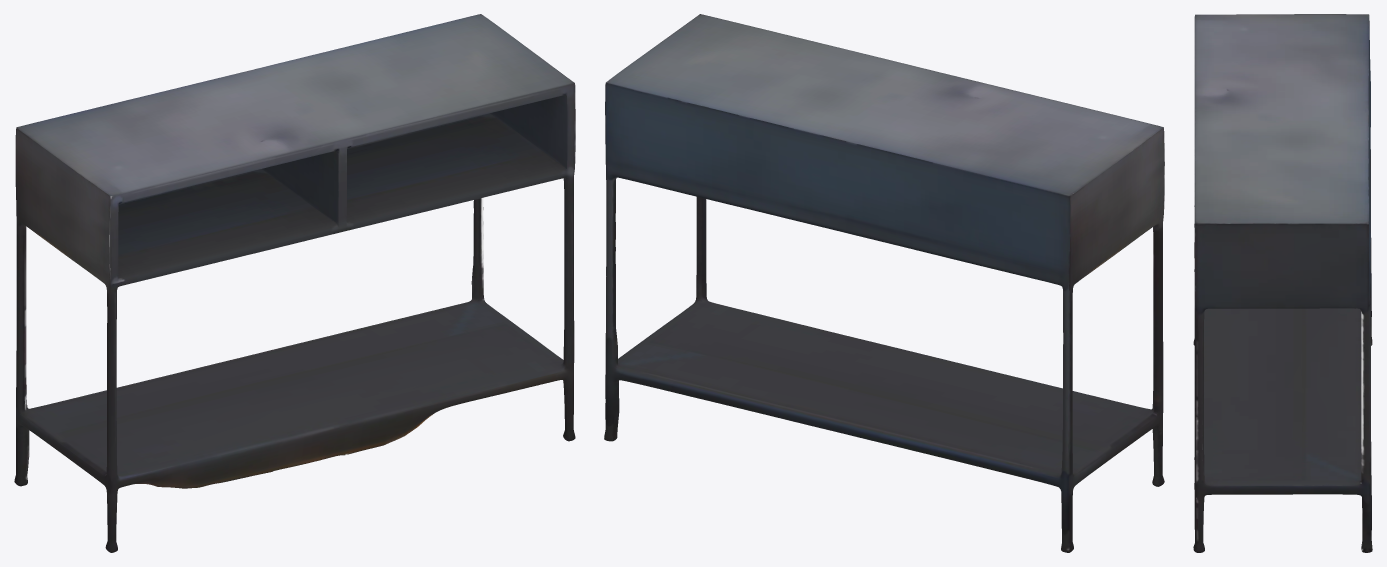
The model's file is dresuar-filadelfia.glb.
3 renders of one model, left to right at view 1: azimuth 30°, elevation 25°; view 2: azimuth 150°, elevation 25°; view 3: azimuth 270°, elevation 25°, orthographic. The views are drawn at different scales.
Parts seen in each view (by area): view 1: model; view 2: model; view 3: model.
Part boxes in pixels (x1,y1,x2,y2): model: [14, 14, 575, 552]; model: [604, 14, 1164, 552]; model: [1193, 14, 1372, 552].
Size of the model in its own units: 1.9 by 1.4 by 0.6824.
Materials: 1 (1 with a texture image).
